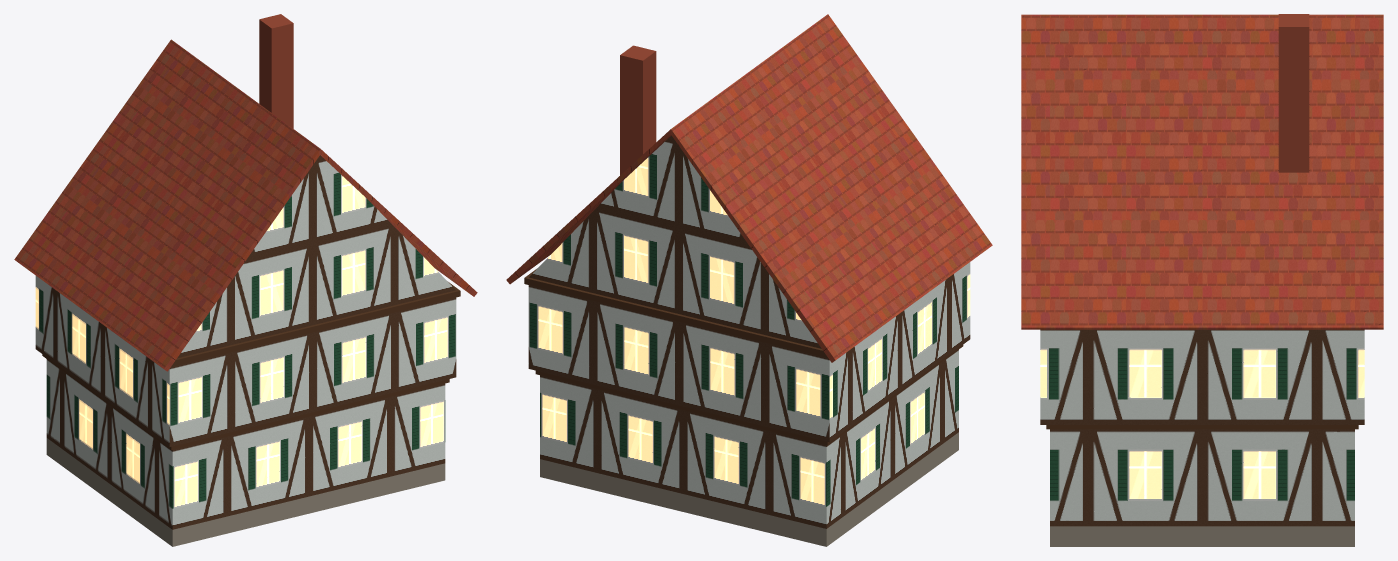
Rendered from eu_half_c.glb.
3 views of the same model, side by side, from view 1: azimuth 30°, elevation 25°; view 2: azimuth 150°, elevation 25°; view 3: azimuth 270°, elevation 25° (orthographic). The views are drawn at different scales.
Parts seen in each view (by area): view 1: roof; view 2: roof; view 3: roof.
Part boxes in pixels (<box>): roof: <box>14,14,477,546</box>; roof: <box>506,14,992,546</box>; roof: <box>1021,14,1383,546</box>.
Size of the model in its own units: 11.5 by 14.07 by 9.5.
5 materials, 2 textured.
